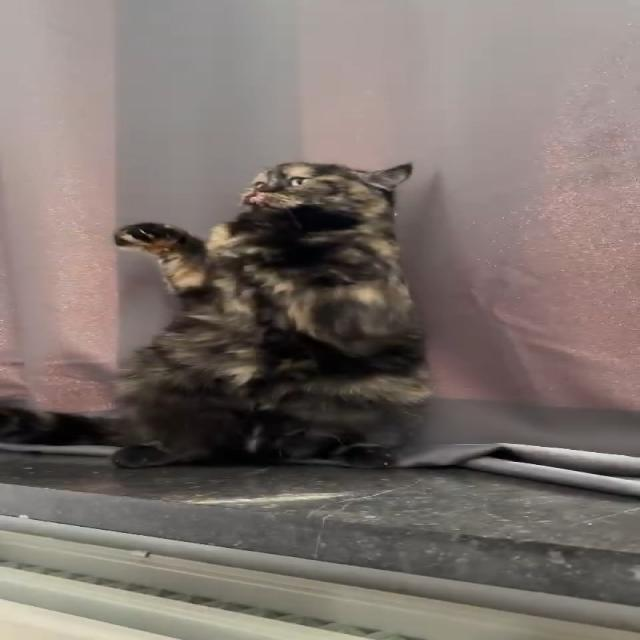authorized: (1, 160, 434, 470)
